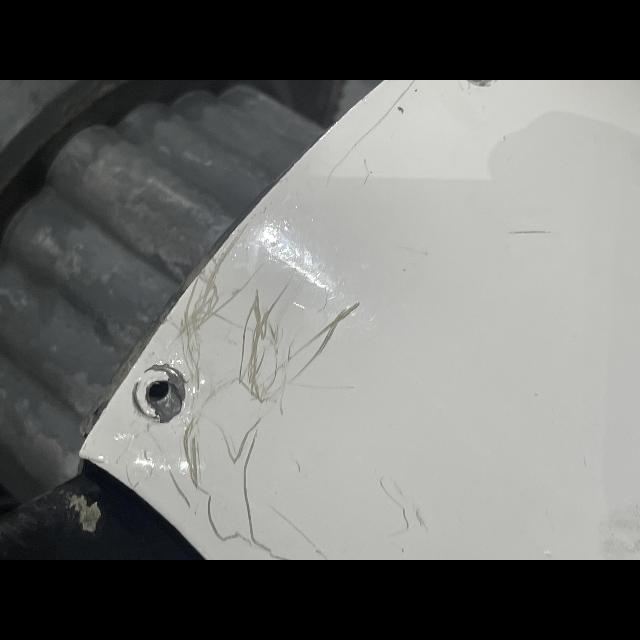Missing Fastener: (134, 363, 188, 422)
